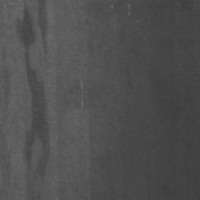inclusion: (16, 1, 61, 199)
